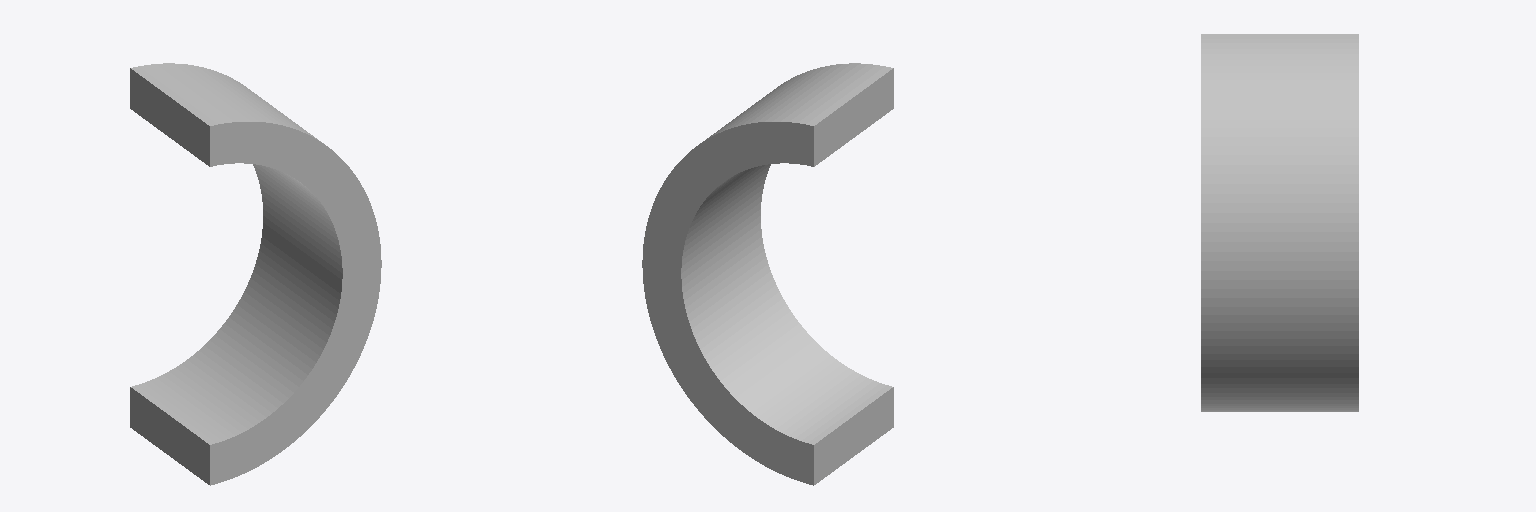
File: _01_schlepp.obj
3 views of the same model, side by side, from view 1: azimuth 30°, elevation 25°; view 2: azimuth 150°, elevation 25°; view 3: azimuth 270°, elevation 25° (orthographic).
Visible parts, largest first — view 1: 0; view 2: 0; view 3: 0.
Part boxes in pixels (x1,y1,x2,y2): 0: (130,63,381,485); 0: (642,63,893,485); 0: (1201,34,1358,411).
Bounding box in the file's own units: 282 × 564 × 226.